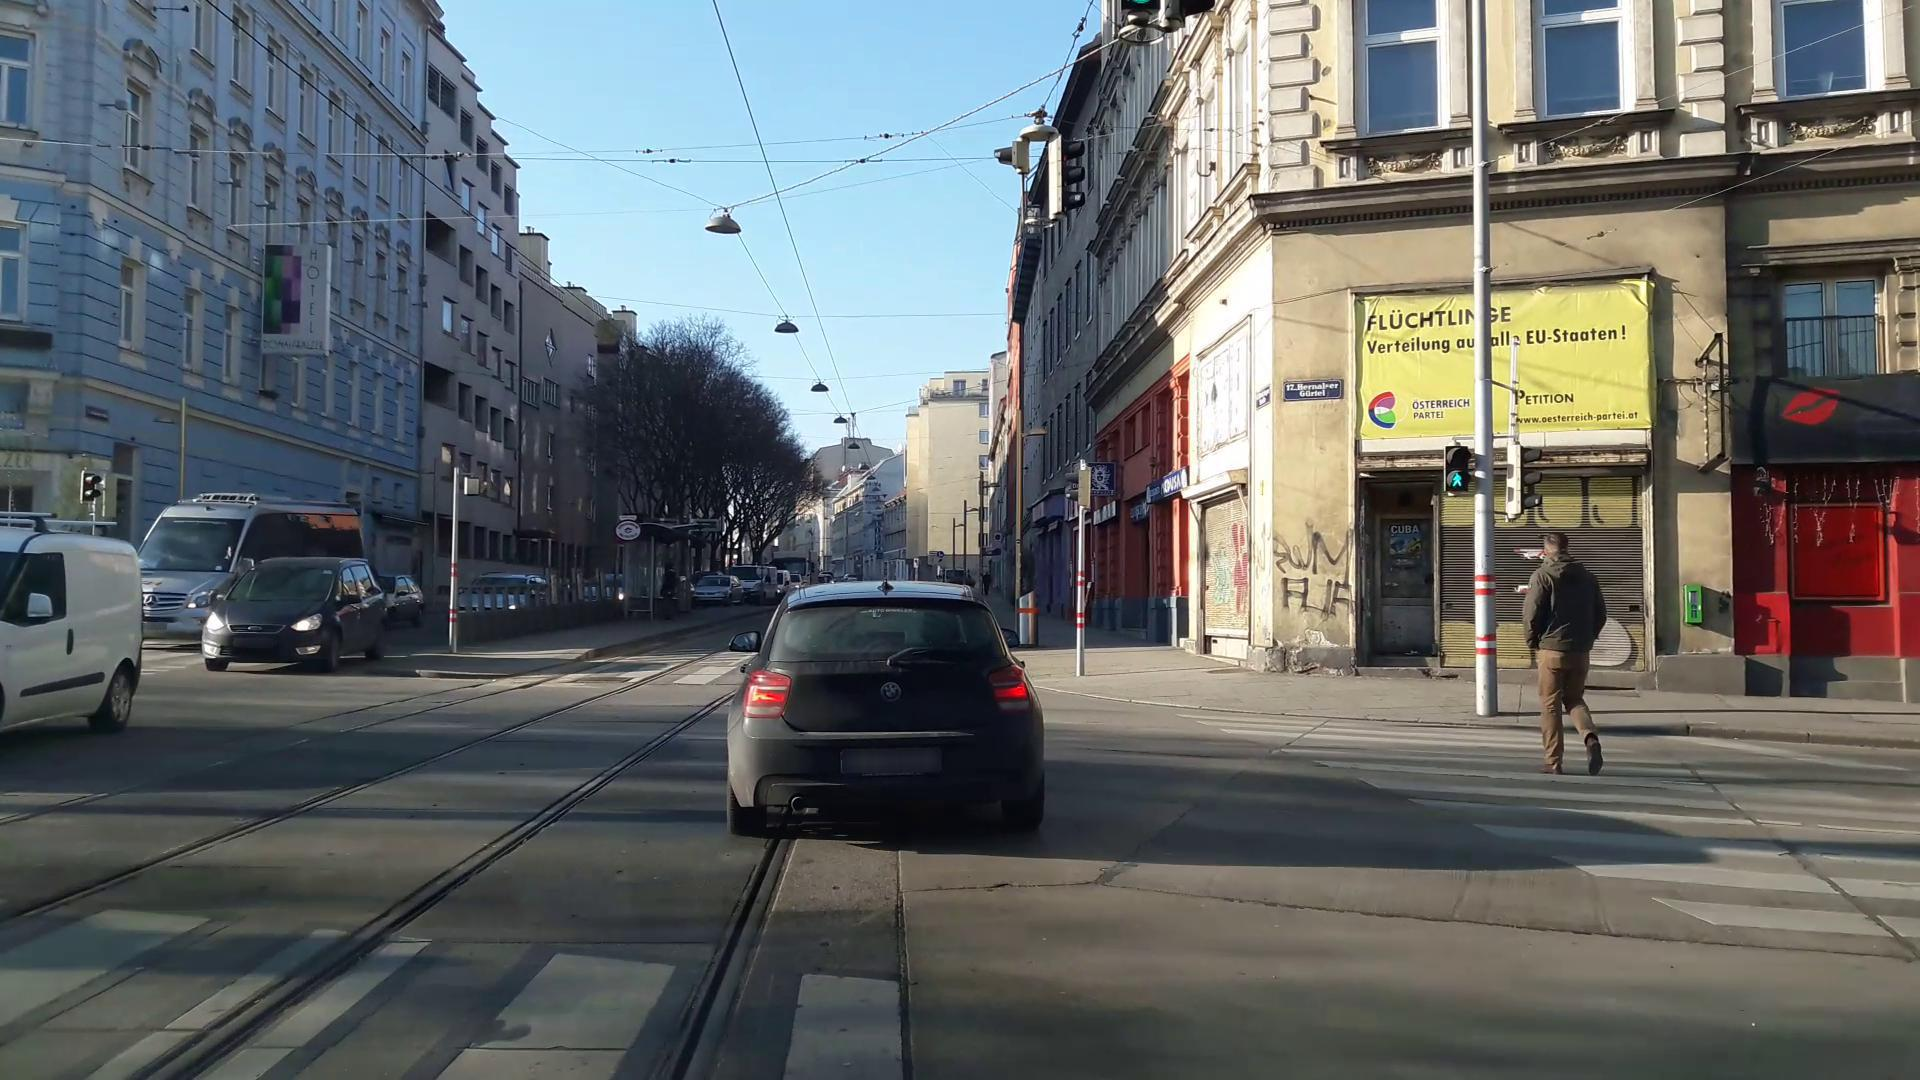vinyl banner: (1338, 278, 1659, 462)
